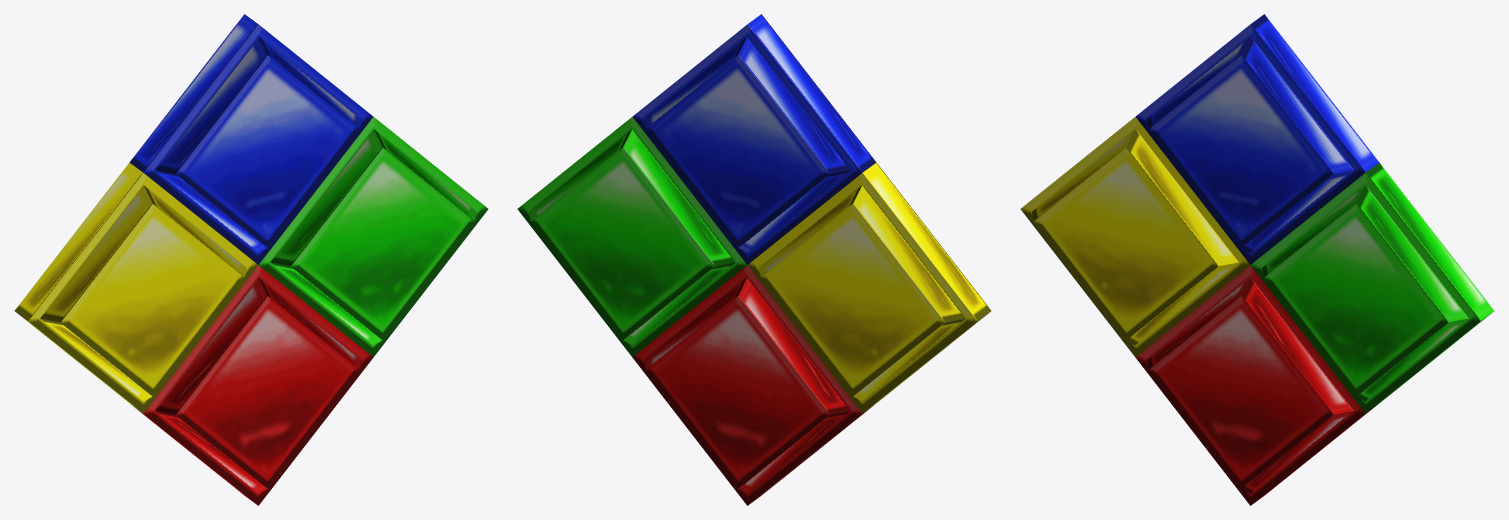
Rendered from icon_a.ico.obj.
3 views of the same model, side by side, from view 1: azimuth 30°, elevation 25°; view 2: azimuth 150°, elevation 25°; view 3: azimuth 330°, elevation 25° (orthographic).
Bounding box in the file's own units: 4.67 × 4.67 × 0.5771.
1 material, 1 textured.
